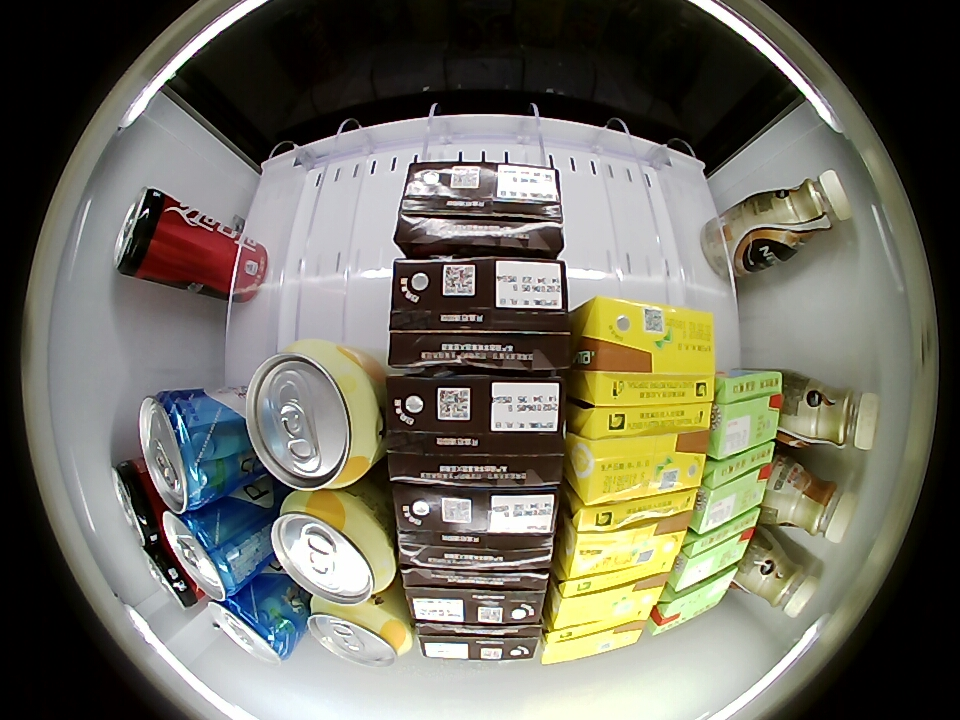kafei: (758, 170, 852, 255), (766, 458, 857, 544), (740, 539, 822, 618), (789, 382, 880, 452)
lingdukele: (114, 186, 184, 281), (111, 458, 165, 547), (142, 543, 200, 611)
mangguoxiaolao: (245, 341, 381, 490), (271, 490, 395, 605), (308, 600, 412, 668)
qingdaowangzi-2: (140, 389, 234, 514), (161, 506, 257, 601), (207, 590, 301, 665)
wanglaoji: (692, 441, 778, 532), (671, 509, 761, 592), (708, 369, 785, 459), (648, 567, 735, 636)
weitanai2: (388, 255, 570, 372), (386, 374, 563, 488), (394, 163, 565, 254), (395, 488, 557, 573), (403, 569, 547, 624), (416, 619, 540, 662)
weitaningmeng: (573, 296, 714, 413), (560, 489, 697, 585), (570, 416, 707, 505), (547, 568, 672, 632), (539, 615, 648, 665)
